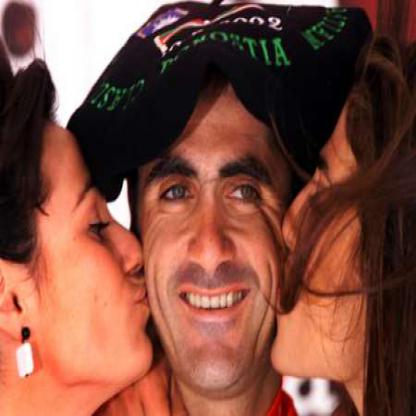face: (134, 14, 298, 394), (7, 66, 163, 406)
